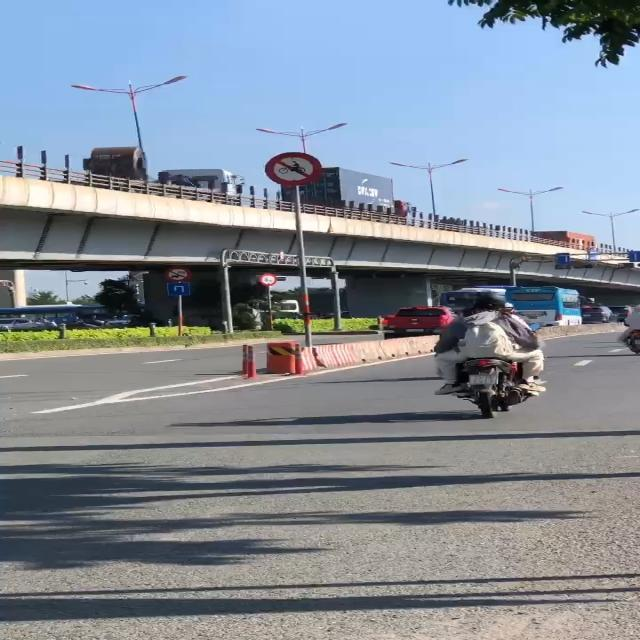Bien bao cam xe may: (263, 150, 324, 189)
